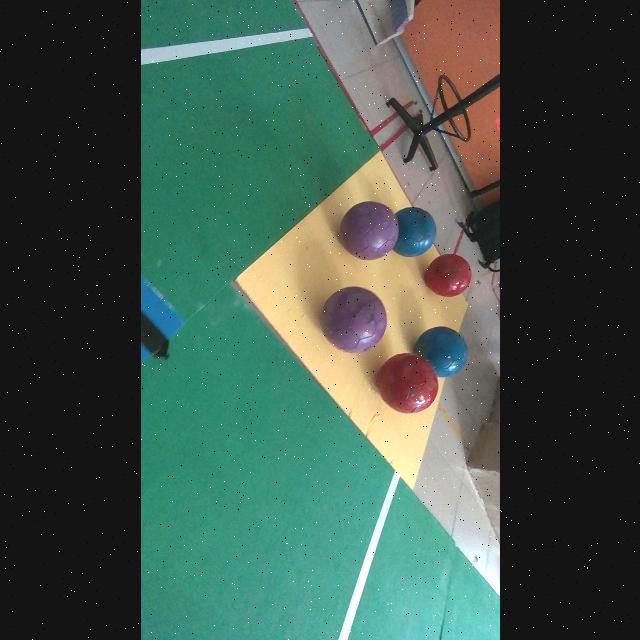B: (414, 326, 467, 377), (393, 208, 437, 257)
P: (321, 287, 387, 353), (340, 201, 398, 260)
R: (377, 353, 438, 413), (426, 254, 471, 297)
